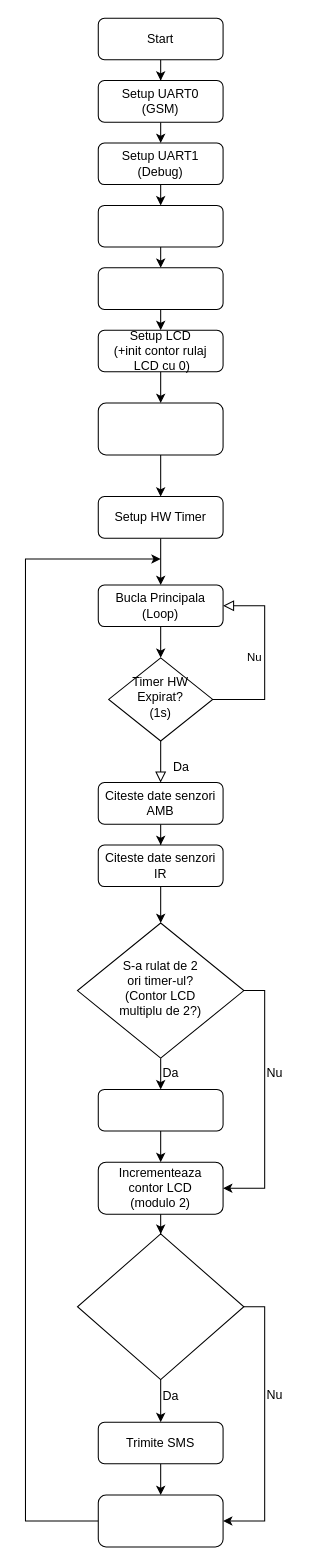
Image size: 324x1565. Some labels were removed from this diagram. Each missing label, with the centre of its shape:
Actualizeaza afisaj LCD: the point at 160,1109
Incrementeaza contor GSM (modulo 4): the point at 160,1520
S-a rulat de 4 ori timer-ul? (Contor GSM multiplu de 2?): the point at 160,1306
Setup AMB: the point at 160,288
Setup GSM (+init contor rulaj GSM cu 0): the point at 160,428
Setup IR: the point at 160,225
